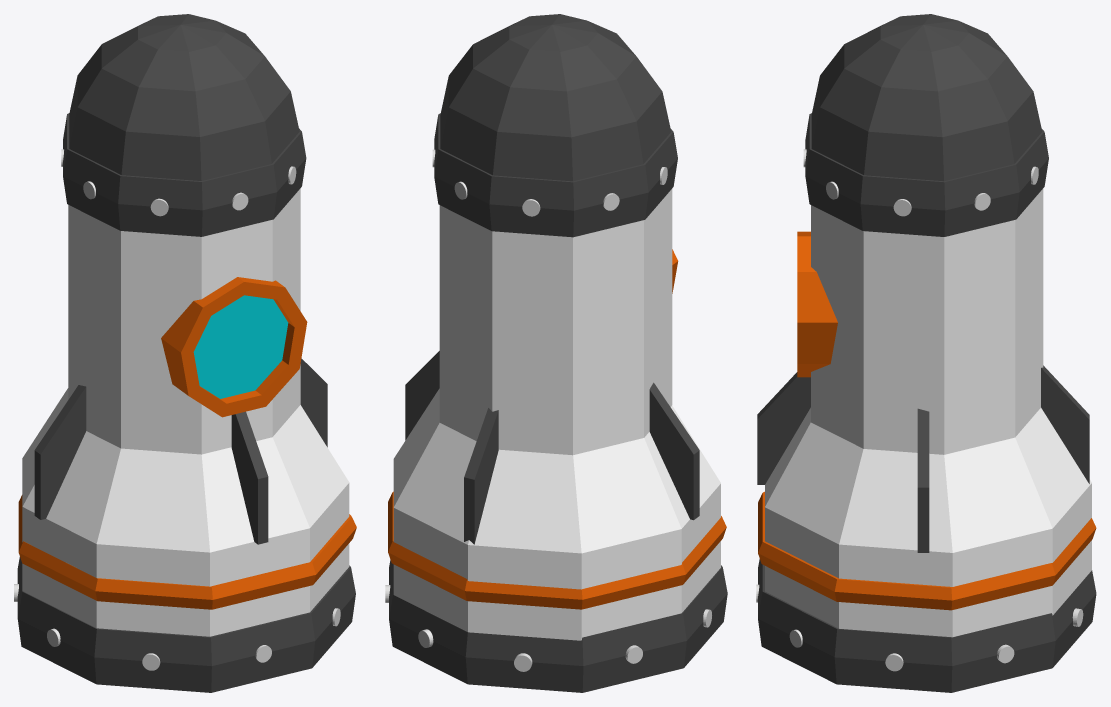
The model's file is Rocket Thin To Wide 2.fbx.
3 renders of one model, left to right at view 1: azimuth 30°, elevation 25°; view 2: azimuth 150°, elevation 25°; view 3: azimuth 270°, elevation 25°, orthographic.
Visible parts, largest first — view 1: Окружность.015; view 2: Окружность.015; view 3: Окружность.015.
Part boxes in pixels (<box>): Окружность.015: <box>14,14,356,692</box>; Окружность.015: <box>385,14,727,692</box>; Окружность.015: <box>756,14,1096,692</box>.
Bounding box in the file's own units: 288 × 550 × 284.
